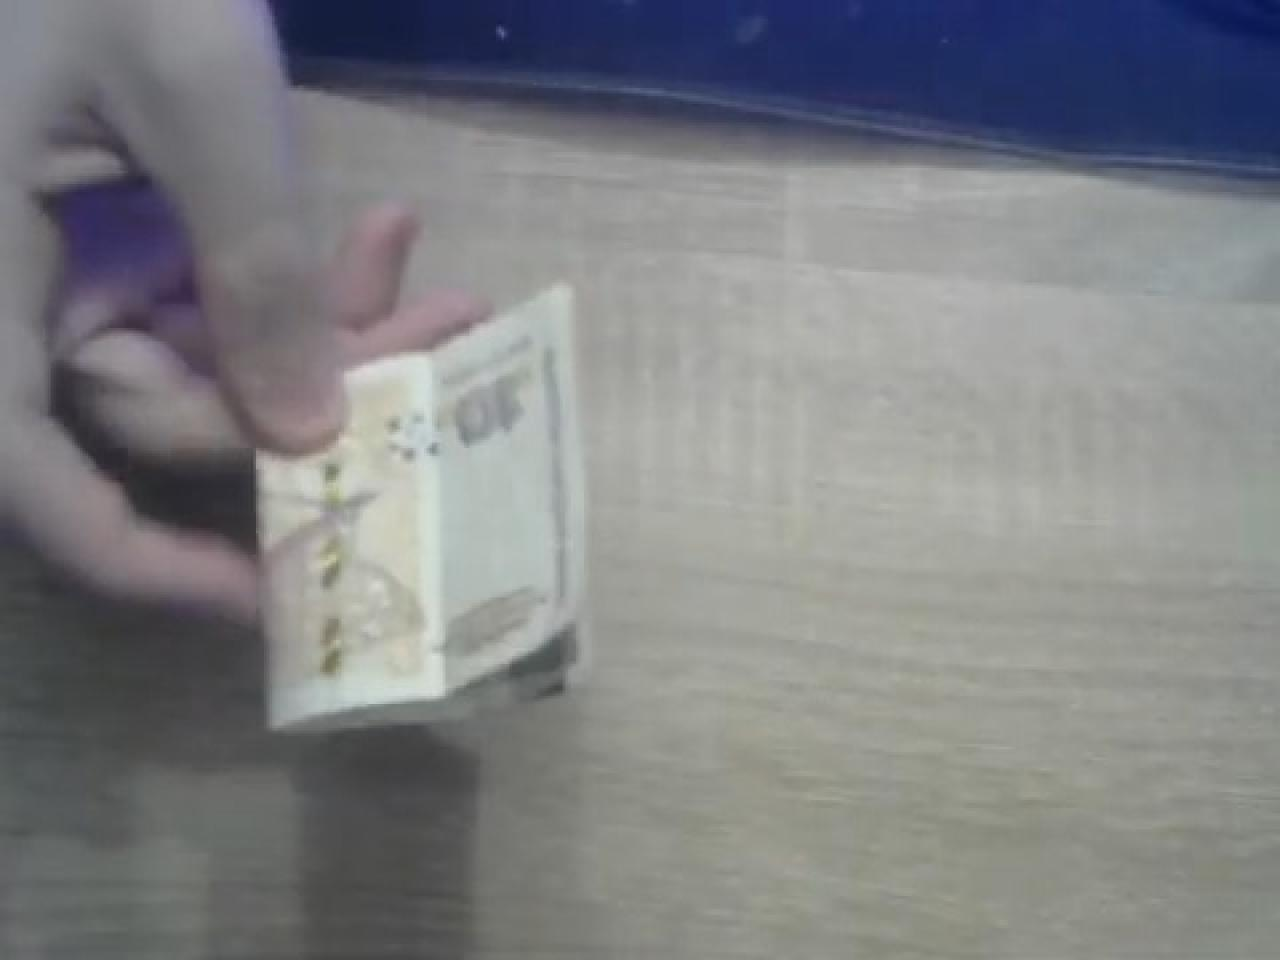10leva: (251, 277, 593, 736)
